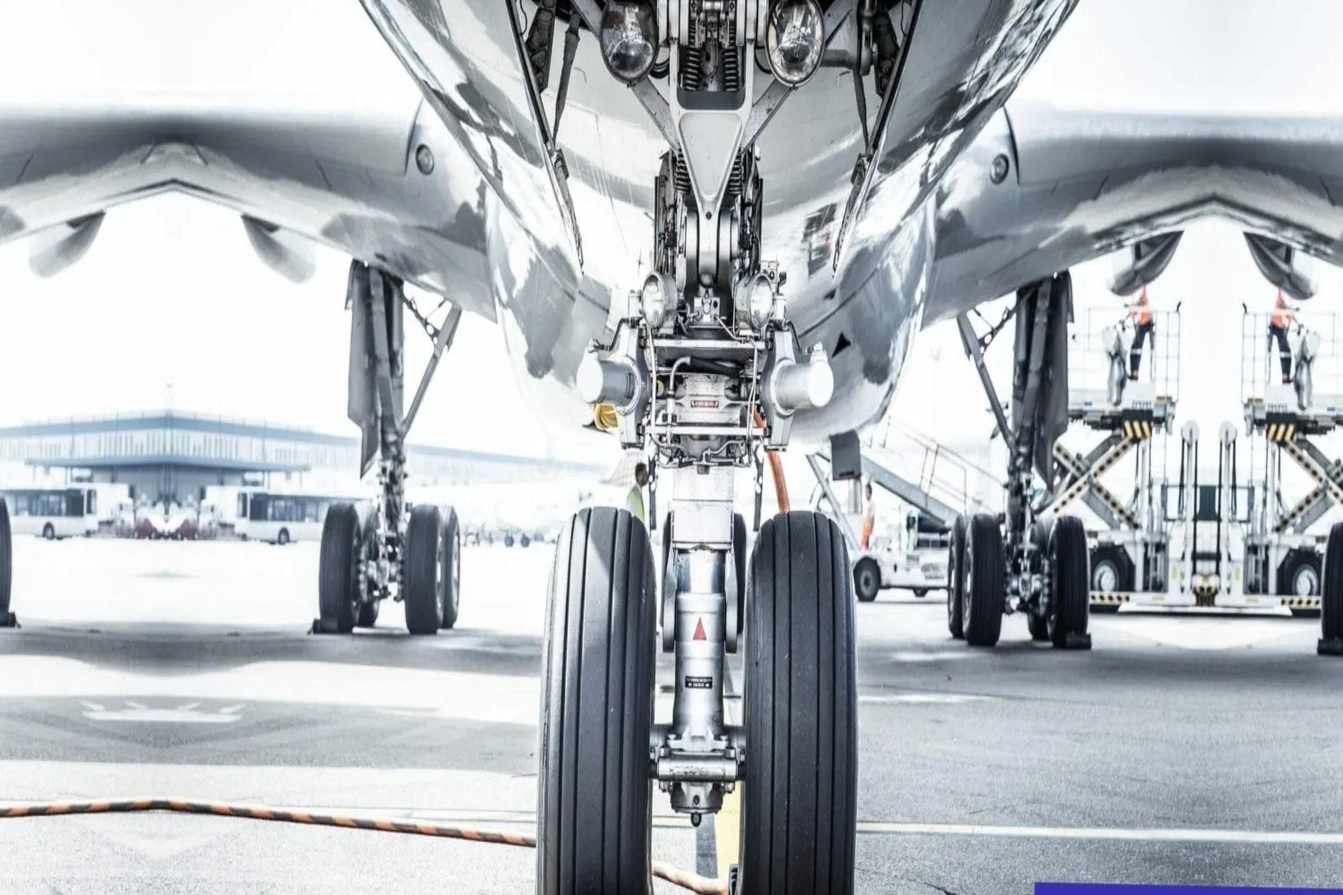wheel: (734, 514, 866, 895), (537, 506, 665, 895), (660, 507, 750, 653), (948, 510, 1008, 645), (317, 499, 373, 633), (1046, 514, 1093, 648), (402, 502, 445, 635), (1024, 521, 1060, 640), (353, 516, 386, 627), (435, 505, 464, 628), (1319, 520, 1343, 654), (726, 509, 749, 648), (946, 517, 971, 639), (1087, 544, 1132, 598), (1281, 548, 1326, 602), (659, 509, 676, 639), (852, 555, 882, 603), (913, 585, 929, 597)
